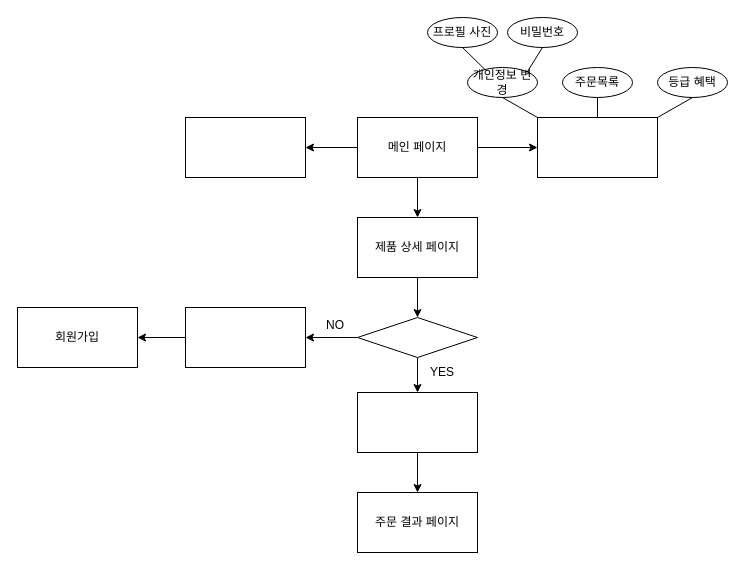
The diagram is 745 pixels wide and 570 high, and some of its shapes have lost their labels. The box of each missing label's shape, as (x1, y1, x2, y2) in pixels:
로그인 여부: (356, 316, 478, 358)
로그인 페이지: (184, 306, 306, 368)
마이 페이지: (536, 116, 658, 178)
장바구니: (184, 116, 306, 178)
주문 상세 페이지: (356, 392, 478, 452)
